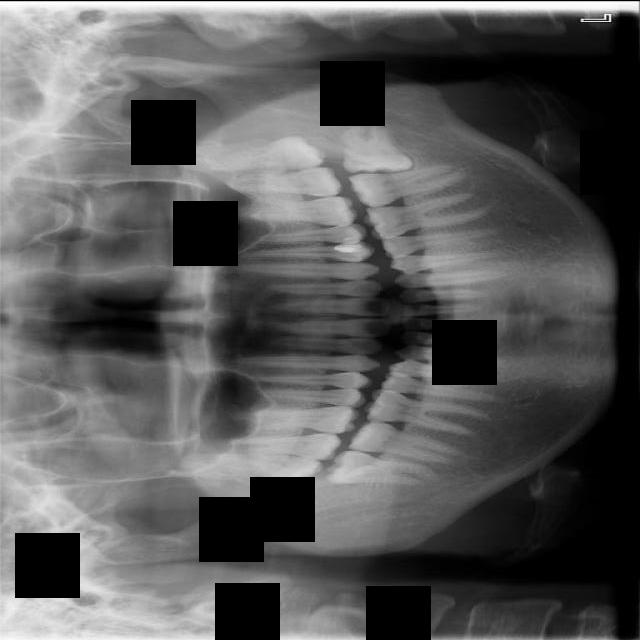3M ESPE Implant: (208, 445, 325, 490)
52: (329, 239, 378, 264), (329, 223, 368, 243)
73: (620, 10, 626, 18)
BioHorizons Implant: (232, 160, 346, 198)
BioLife Implant: (177, 134, 330, 172)
Biomet 3i Implant: (340, 121, 414, 176)
Blue Sky Bio Implant: (347, 161, 467, 209)
Caries: (216, 430, 344, 467)
Implant: (347, 415, 464, 465)
Keystone Dental Implant: (325, 449, 436, 485)
